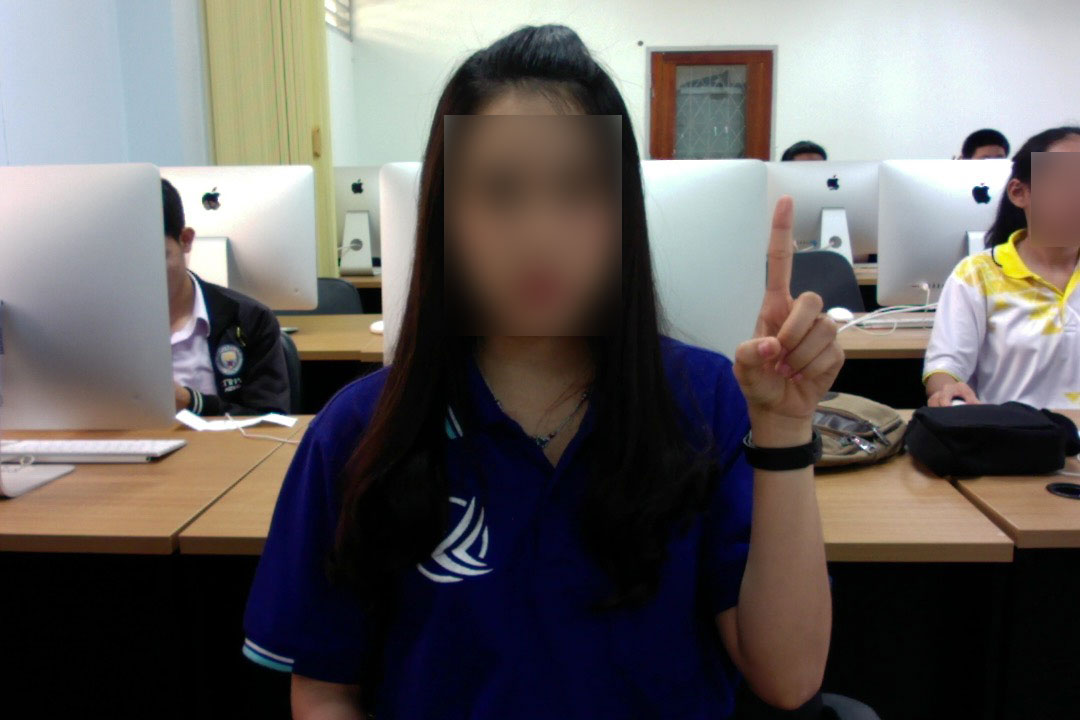dor: (726, 187, 850, 432)
